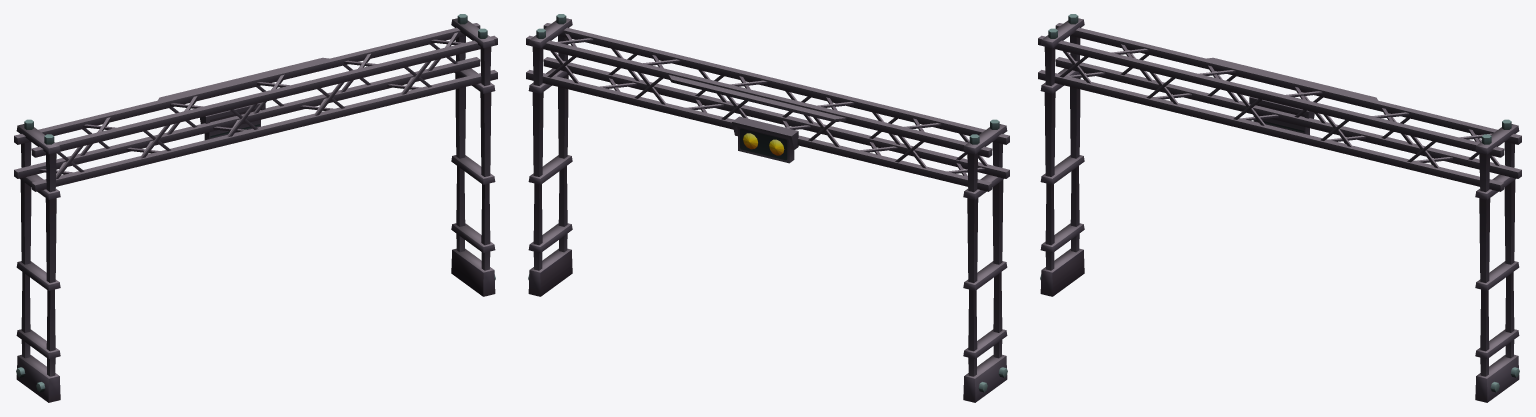
The model's file is Highway_Streetsign_1C.fbx.
3 views of the same model, side by side, from view 1: azimuth 30°, elevation 25°; view 2: azimuth 150°, elevation 25°; view 3: azimuth 330°, elevation 25° (orthographic).
Visible parts, largest first — view 1: Highway_Streetsign_1C, Addon_Sign_1H; view 2: Highway_Streetsign_1C, Addon_Sign_1H; view 3: Highway_Streetsign_1C, Addon_Sign_1H.
Part boxes in pixels (bbox=[...]): Highway_Streetsign_1C: bbox=[14, 14, 497, 402]; Addon_Sign_1H: bbox=[158, 57, 328, 140]; Highway_Streetsign_1C: bbox=[526, 14, 1009, 402]; Addon_Sign_1H: bbox=[668, 74, 846, 163]; Highway_Streetsign_1C: bbox=[1038, 14, 1521, 402]; Addon_Sign_1H: bbox=[1207, 57, 1377, 134].
Bounding box in the file's own units: 2129 × 1146 × 262.
